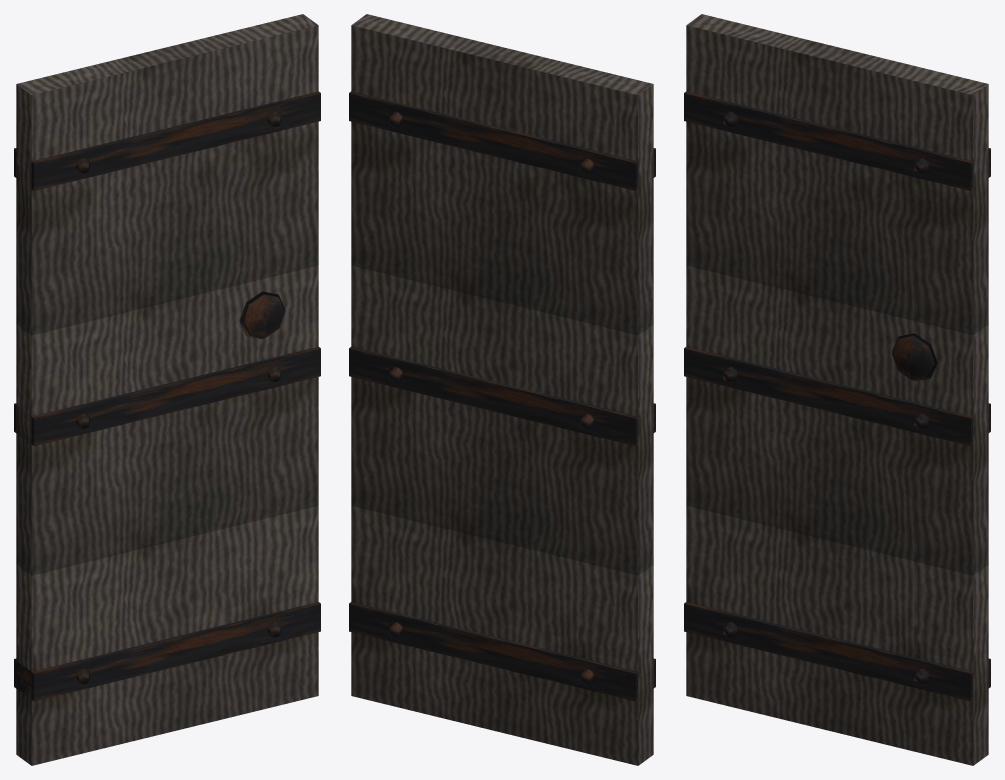
Rendered from maus_door.glb.
The picture shows the model from 3 angles, left to right: view 1: azimuth 30°, elevation 25°; view 2: azimuth 150°, elevation 25°; view 3: azimuth 330°, elevation 25°; orthographic projection.
Parts seen in each view (by area): view 1: maus_door; view 2: maus_door; view 3: maus_door.
Boxes of the visible parts, x1,y1,x2,y2 form: maus_door: (14, 14, 320, 765); maus_door: (349, 14, 655, 765); maus_door: (684, 14, 990, 765).
Size of the model in its own units: 1.5 by 3.35 by 0.2659.
Materials: 2 (2 with a texture image).
